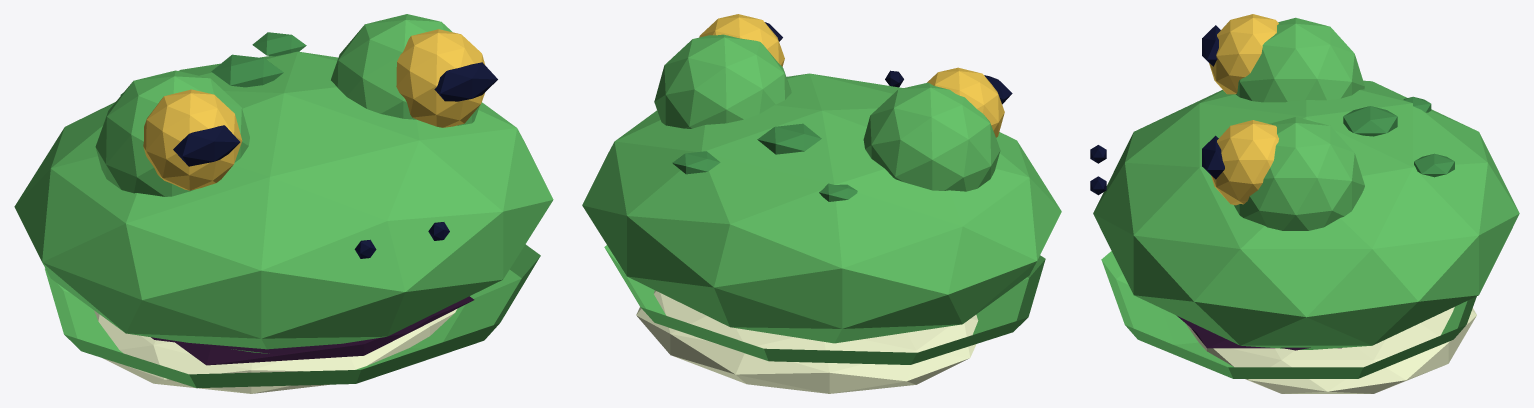
The model's file is frog.glb.
3 views of the same model, side by side, from view 1: azimuth 30°, elevation 25°; view 2: azimuth 150°, elevation 25°; view 3: azimuth 270°, elevation 25° (orthographic). The views are drawn at different scales.
Visible parts, largest first — view 1: head, jaw_skin, eye_bulge_left, jaw_throat, eye_bulge_right, eye_left, eye_right, mouth_roof, pupil_left, pupil_right, spot_a, spot_b (+1 smaller); view 2: head, jaw_throat, eye_bulge_left, eye_bulge_right, jaw_skin, eye_left, eye_right, spot_a, spot_b, spot_c; view 3: head, eye_bulge_right, jaw_throat, eye_bulge_left, jaw_skin, eye_right, eye_left, spot_a, spot_b, pupil_right, mouth_roof, pupil_left.
Boxes of the visible parts, bbox=[...] form: head: bbox=[14, 51, 553, 353]; jaw_skin: bbox=[45, 244, 540, 388]; eye_bulge_left: bbox=[95, 70, 249, 196]; jaw_throat: bbox=[94, 309, 456, 393]; eye_bulge_right: bbox=[331, 14, 479, 125]; eye_left: bbox=[143, 89, 242, 190]; eye_right: bbox=[396, 29, 484, 127]; mouth_roof: bbox=[175, 296, 474, 365]; pupil_left: bbox=[173, 125, 240, 166]; pupil_right: bbox=[434, 62, 497, 101]; spot_a: bbox=[211, 54, 283, 87]; spot_b: bbox=[252, 32, 306, 56]; head: bbox=[582, 73, 1061, 343]; jaw_throat: bbox=[636, 290, 978, 393]; eye_bulge_left: bbox=[863, 82, 1000, 191]; eye_bulge_right: bbox=[654, 34, 791, 128]; jaw_skin: bbox=[604, 245, 1045, 364]; eye_left: bbox=[927, 67, 1004, 137]; eye_right: bbox=[699, 14, 784, 66]; spot_a: bbox=[757, 123, 821, 154]; spot_b: bbox=[672, 151, 720, 174]; spot_c: bbox=[819, 183, 857, 201]; head: bbox=[1093, 80, 1519, 349]; eye_bulge_right: bbox=[1234, 117, 1364, 230]; jaw_throat: bbox=[1186, 307, 1476, 393]; eye_bulge_left: bbox=[1235, 17, 1364, 102]; jaw_skin: bbox=[1101, 251, 1476, 378]; eye_right: bbox=[1211, 120, 1278, 205]; eye_left: bbox=[1209, 14, 1278, 94]; spot_a: bbox=[1343, 106, 1397, 136]; spot_b: bbox=[1414, 153, 1454, 177]; pupil_right: bbox=[1202, 135, 1224, 179]; mouth_roof: bbox=[1191, 328, 1341, 348]; pupil_left: bbox=[1202, 25, 1220, 66].
Size of the model in its own units: 0.92 by 0.575 by 0.8053.
